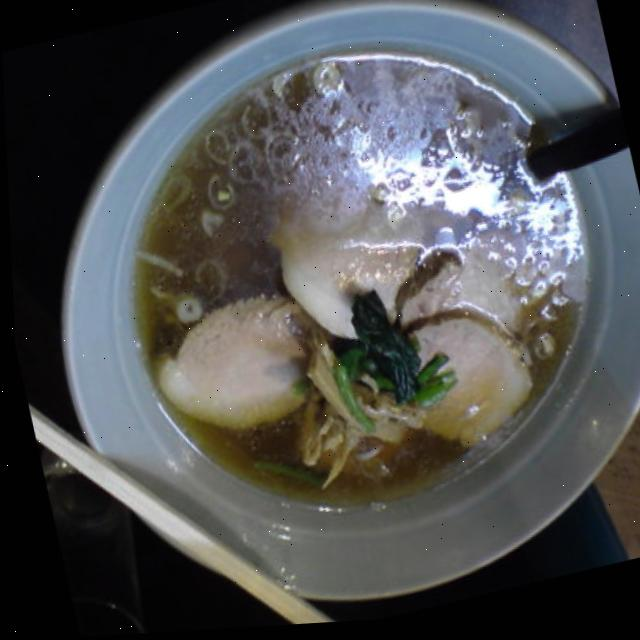面条主食: (23, 0, 640, 639)
